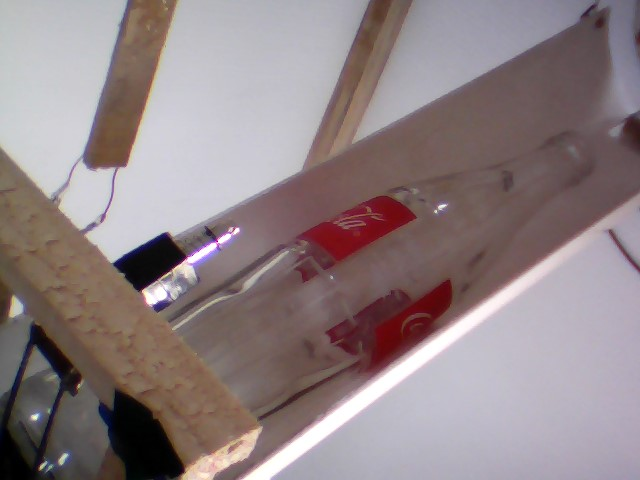vidrio: (166, 123, 601, 426)
